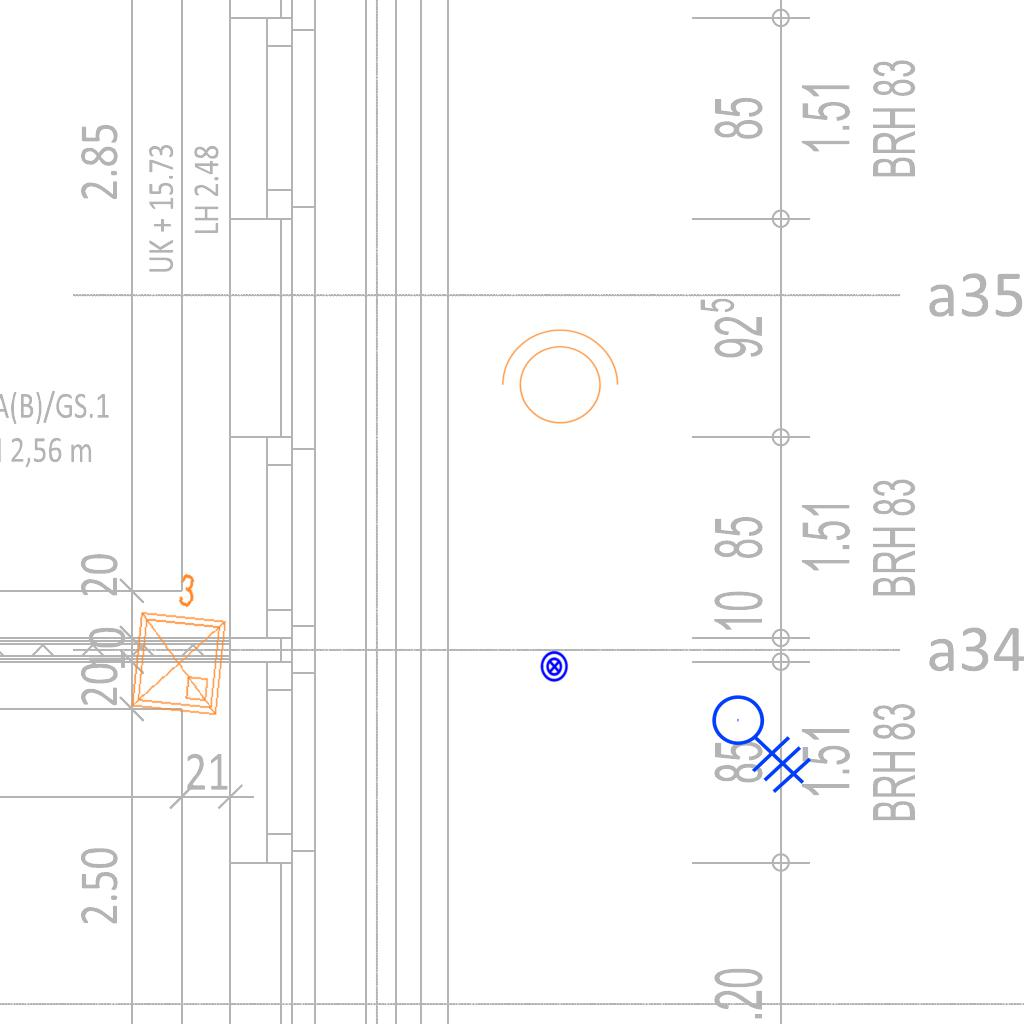Einbaudownlights_LED_Konferenzraeume: (119, 562, 239, 724)
Elektroanschluss_allgemein_400V_Geraeteanschlussdose_400V: (711, 678, 824, 794)
Scheinwerfer_fuer_Alarmbeleuchtung: (491, 324, 623, 436)
Taster_beleuchtet: (538, 650, 571, 683)
